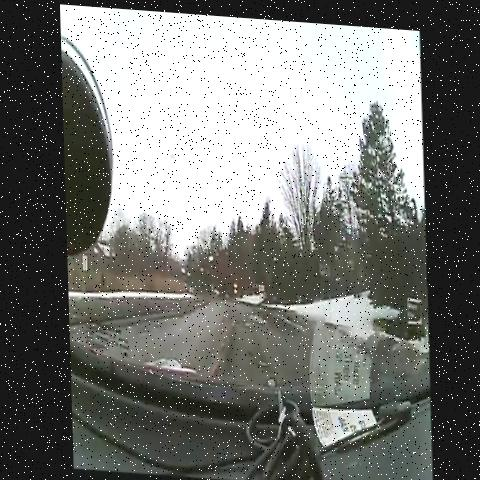pothole: (241, 301, 273, 325), (250, 350, 273, 378), (228, 313, 258, 326), (243, 339, 258, 360)
